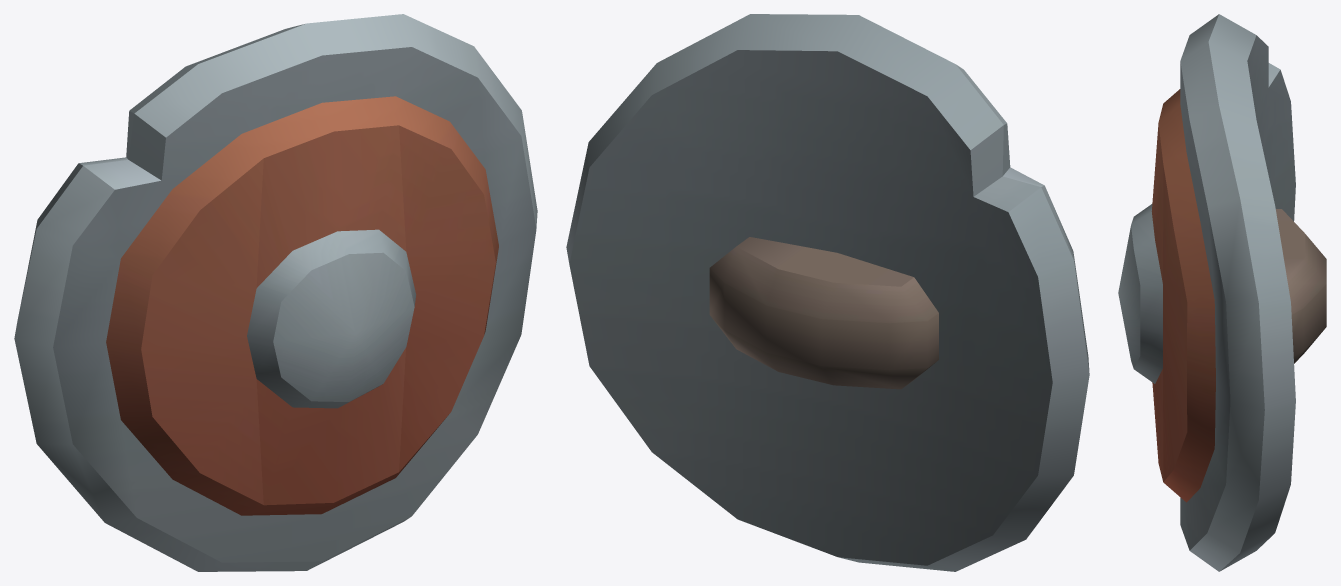
File: kaykit-shield-round.glb
3 renders of one model, left to right at view 1: azimuth 30°, elevation 25°; view 2: azimuth 150°, elevation 25°; view 3: azimuth 270°, elevation 25°, orthographic. The views are drawn at different scales.
Parts seen in each view (by area): view 1: shield_round; view 2: shield_round; view 3: shield_round.
Boxes of the visible parts, x1,y1,x2,y2 form: shield_round: (14,14,537,571); shield_round: (566,14,1089,571); shield_round: (1118,14,1326,571).
Size of the model in its own units: 0.8826 by 0.8826 by 0.332.
Materials: 1 (1 with a texture image).
